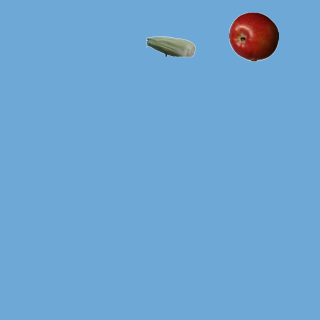Apple Braeburn: (228, 11, 278, 61)
Corn Husk: (145, 21, 195, 71)
